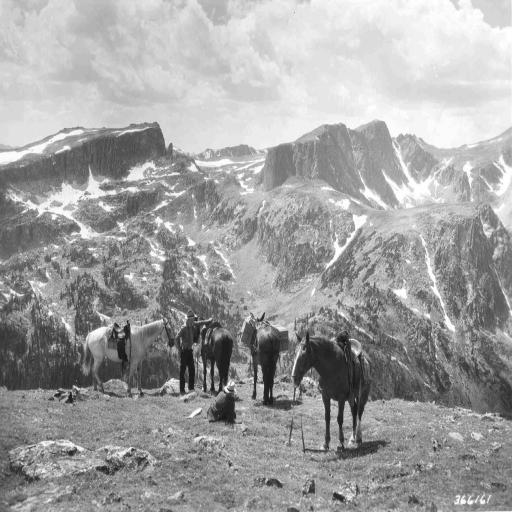horse: (292, 327, 374, 453), (80, 316, 176, 394), (248, 310, 282, 408), (194, 315, 234, 393)
